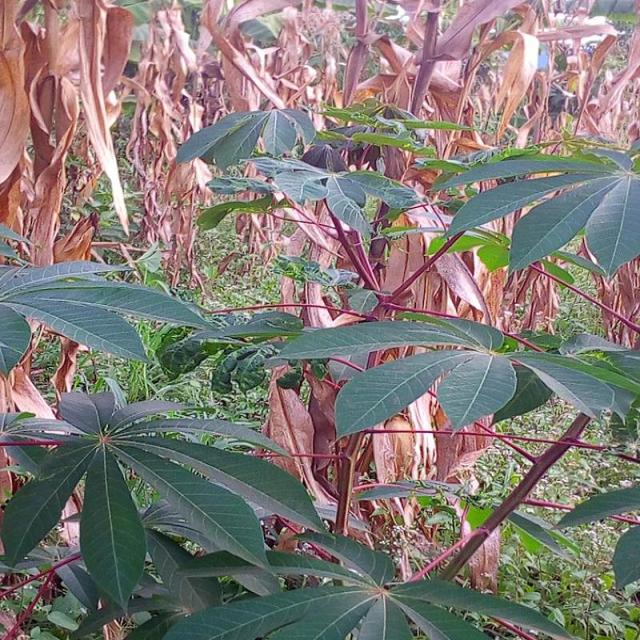cassava leaf: (174, 106, 316, 172)
